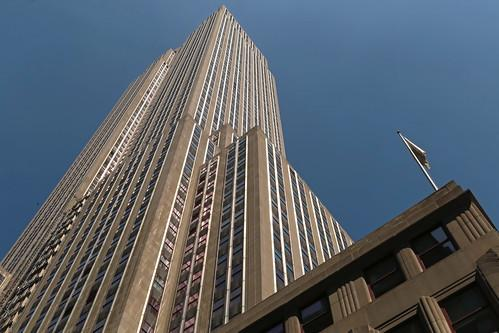building: (1, 3, 294, 333)
